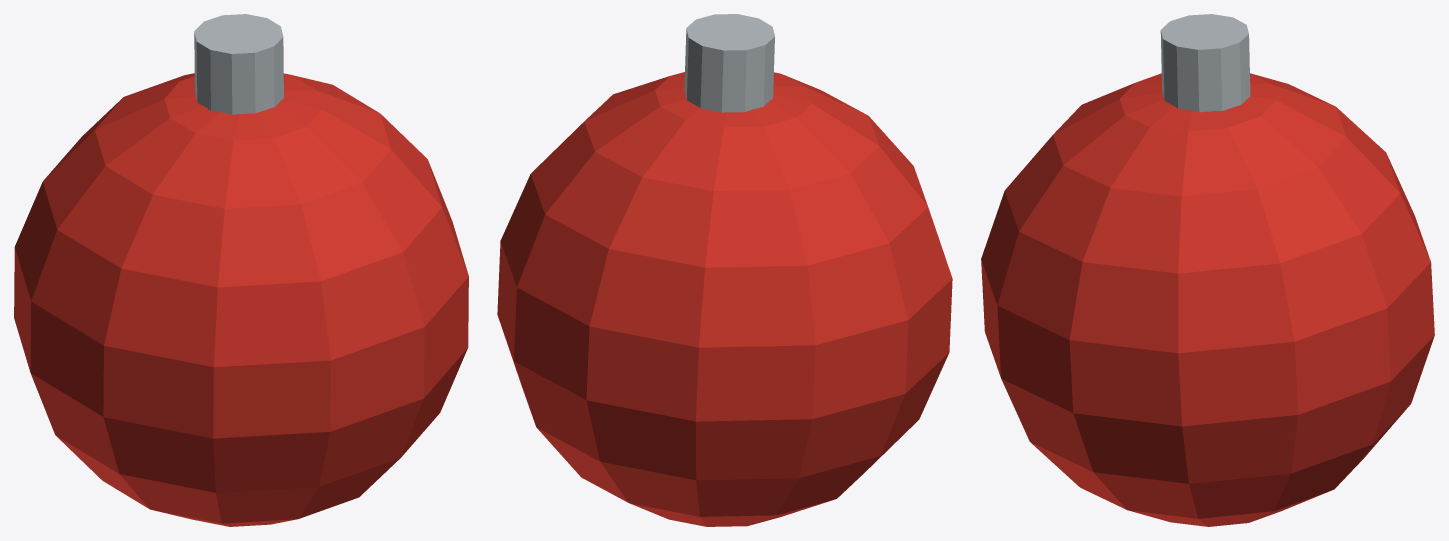
The picture shows the model from 3 angles, left to right: view 1: azimuth 30°, elevation 25°; view 2: azimuth 150°, elevation 25°; view 3: azimuth 270°, elevation 25°; orthographic projection.
Visible parts, largest first — view 1: node_MeshObject1340689408-PolyPaper21; view 2: node_MeshObject1340689408-PolyPaper21; view 3: node_MeshObject1340689408-PolyPaper21.
Part boxes in pixels (<box>): node_MeshObject1340689408-PolyPaper21: <box>14,14,468,526</box>; node_MeshObject1340689408-PolyPaper21: <box>497,14,952,526</box>; node_MeshObject1340689408-PolyPaper21: <box>981,14,1434,526</box>.
Size of the model in its own units: 0.1472 by 0.17 by 0.1479.
